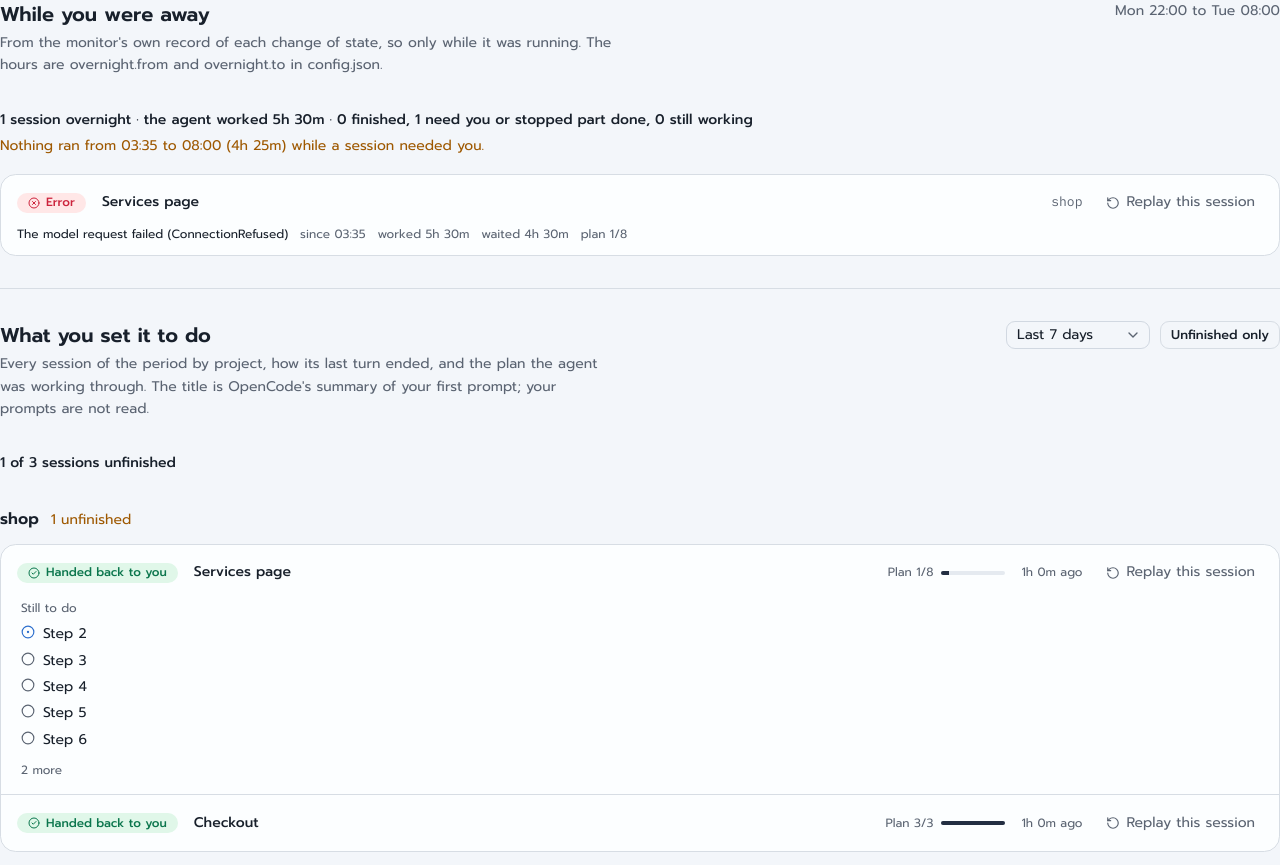
Test case: Tasks › lists sessions by project, with how far each plan got and what is left
Check: the text "1 of 3 sessions unfinished" is shown, box [0,452,176,473]
Check: the heading "shop" is shown, box [0,507,39,532]
What coordinates should you click on to do the following:
click the button "2 more"
I would click on:
 (42, 770)
Its box is [21,761,62,780].
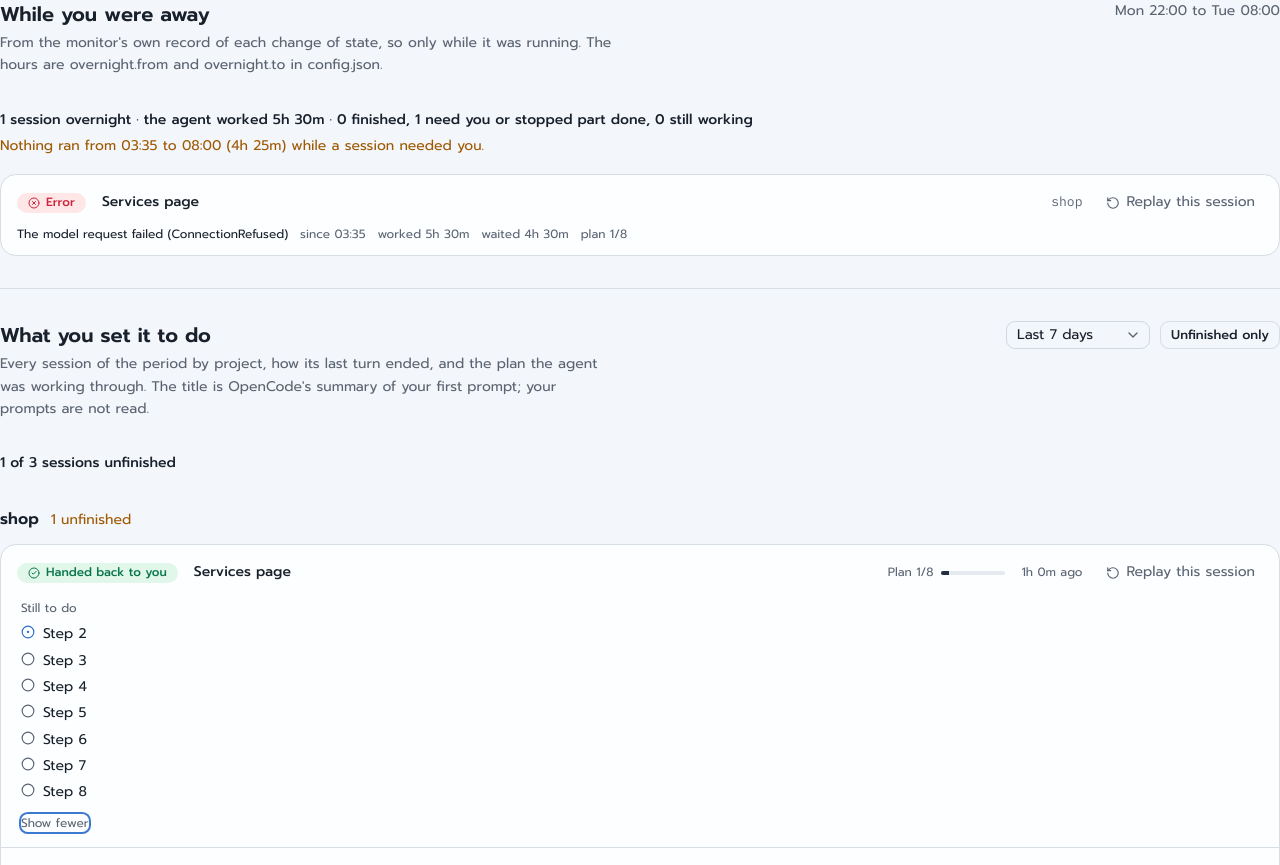
Check: the icon named "in progress" is shown, box [21,625,35,639]
Check: the text "Step 8" is shown, box [43,782,87,804]
